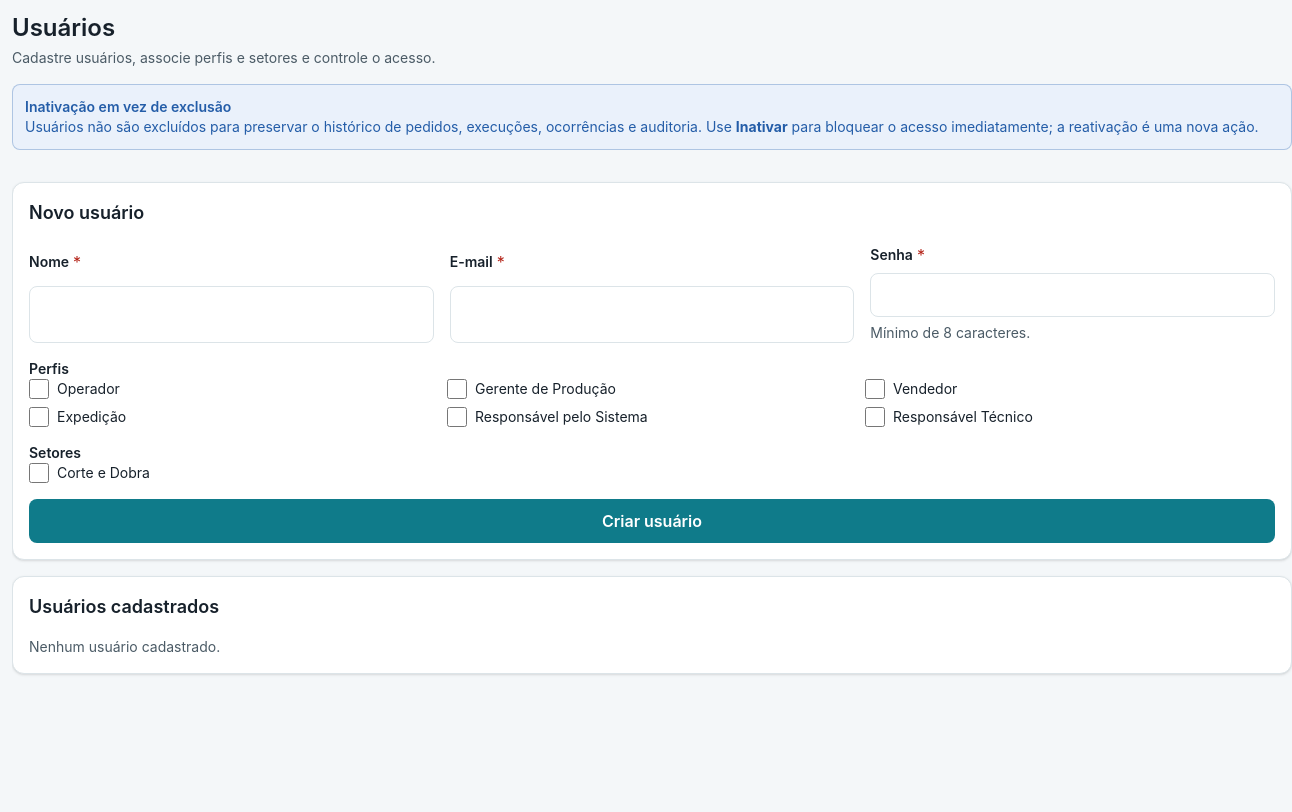
it: UsuariosPage › trata o conflito de e-mail com mensagem acessível (FEP-08)
Check: the heading "Novo usuário" is shown, box x1=29 y1=199 x2=144 y2=227
Type "Beto" into the field labelled "Nome" at (231, 314), box x1=29 y1=286 x2=434 y2=343
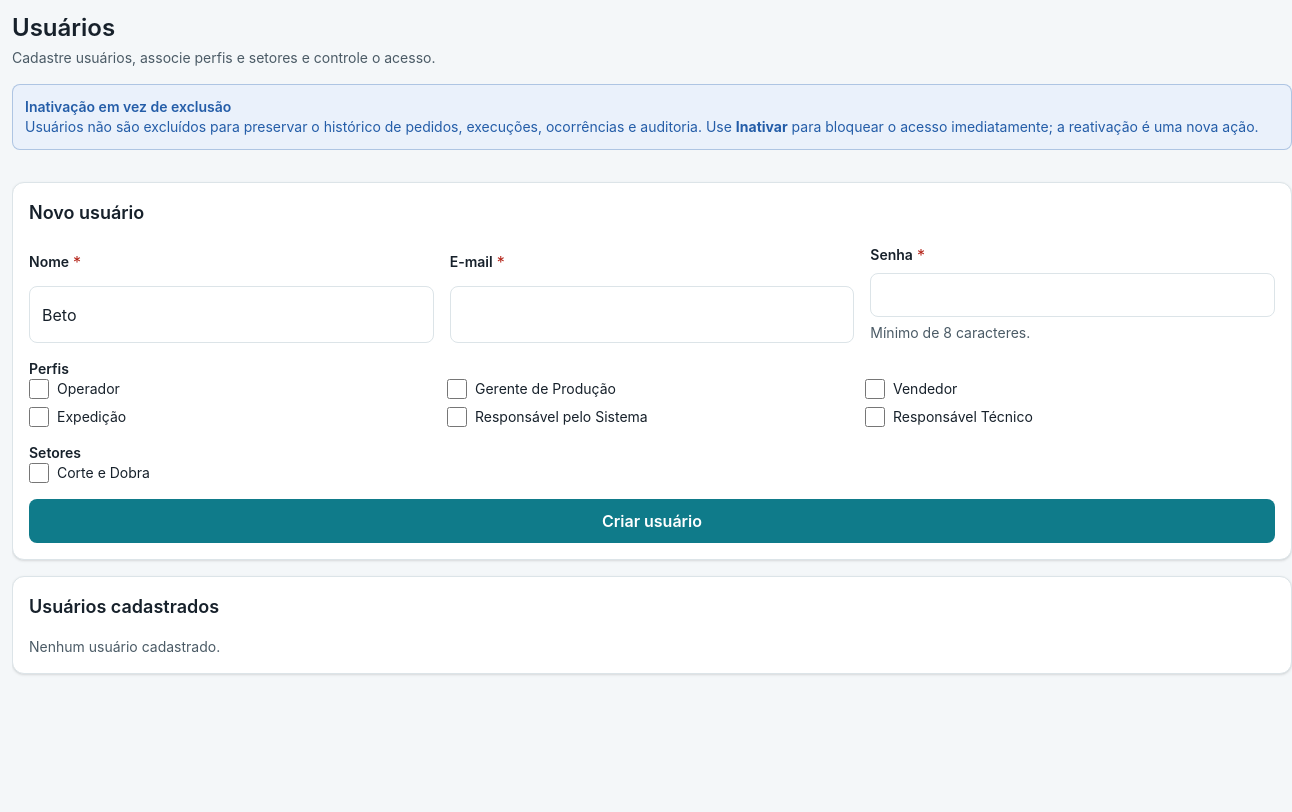
Type "beto@x.com" into the field labelled "E-mail" at (652, 314), box x1=450 y1=286 x2=854 y2=343
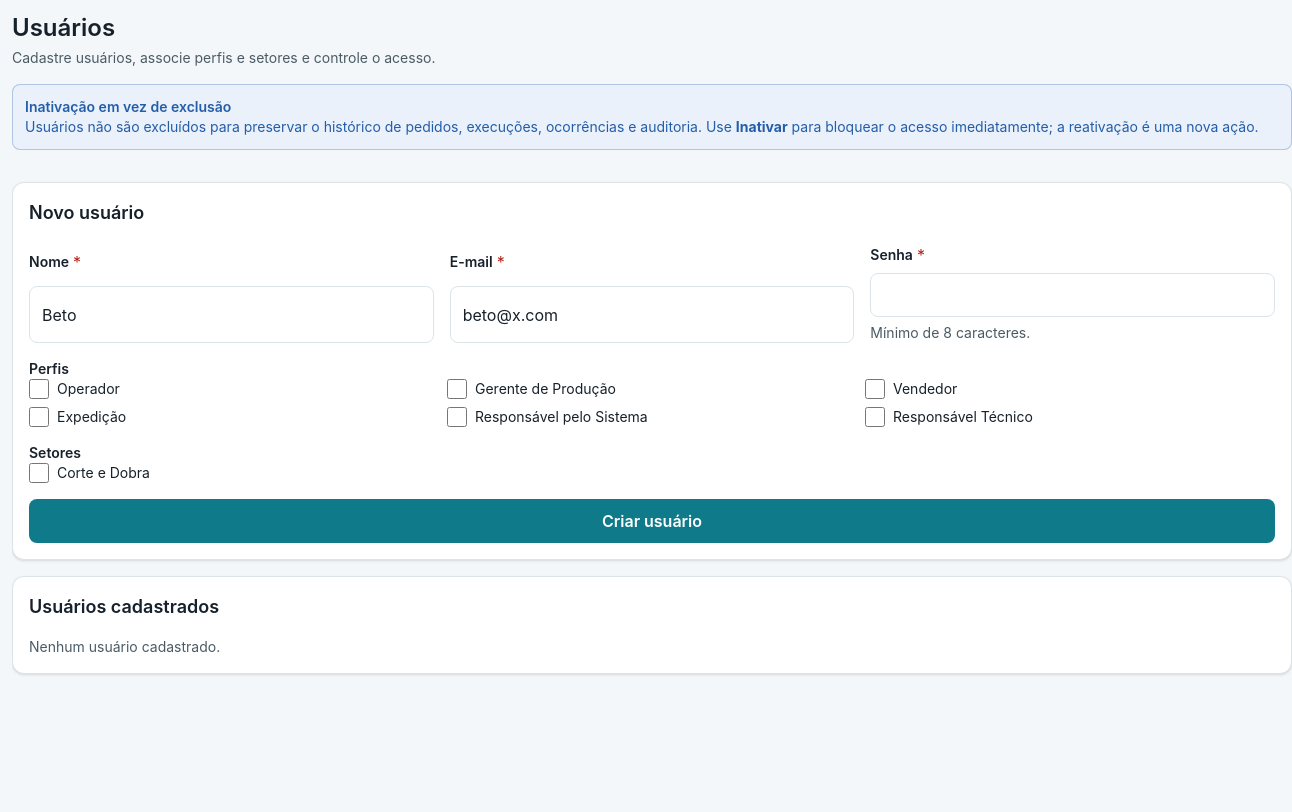
Type "segredo-forte" into the password field labelled "Senha" at (1073, 295), box x1=870 y1=273 x2=1275 y2=317
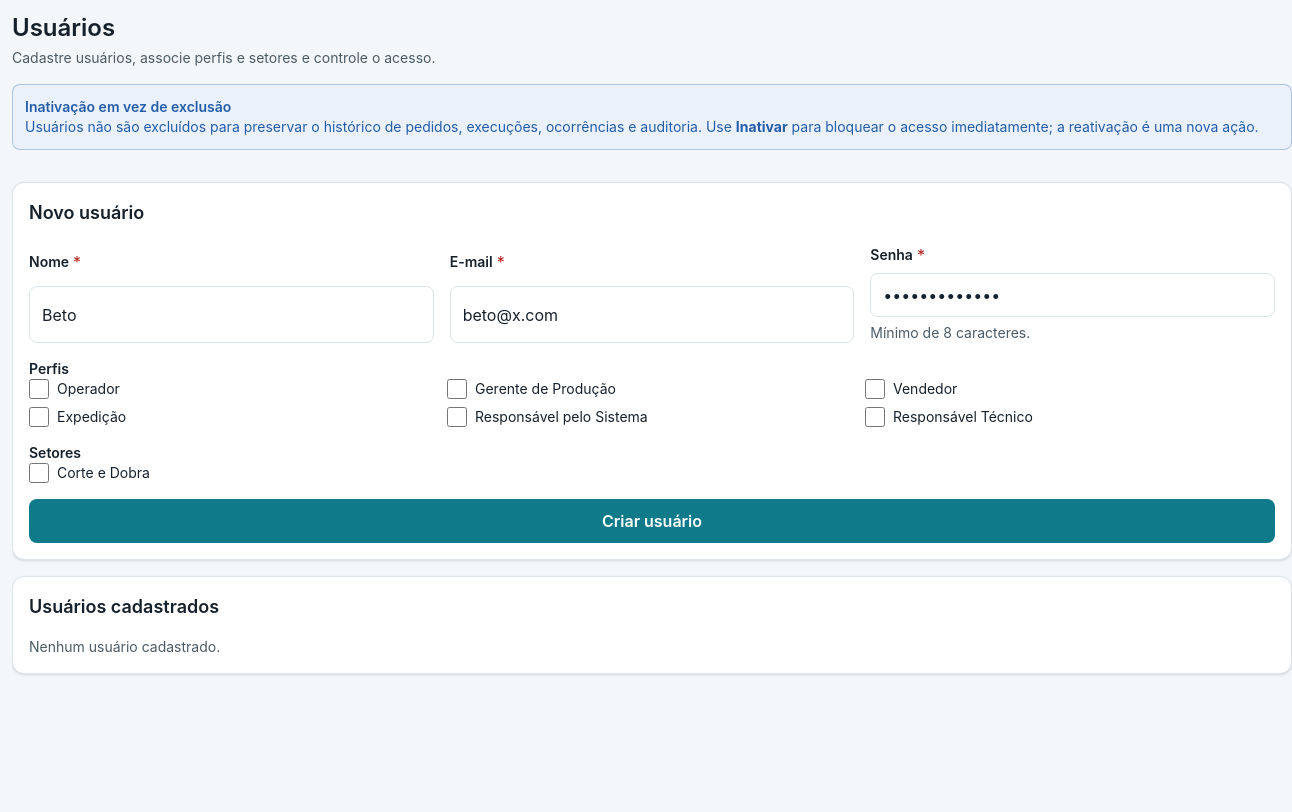
Click the button "Criar usuário" at (652, 521), box x1=29 y1=499 x2=1275 y2=543
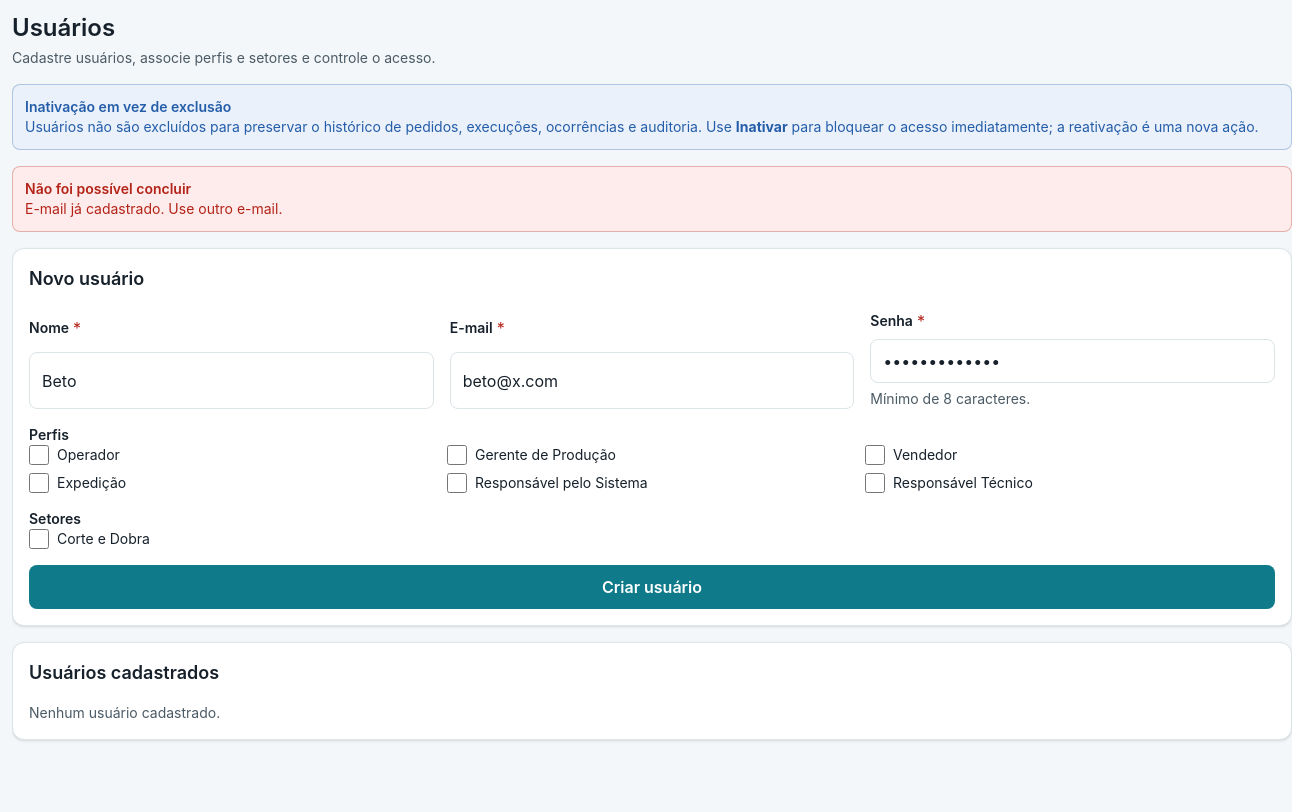
Check: the message "Não foi possível concluir E-mail já cadastrado. Use outro e-mail." is shown, box x1=12 y1=166 x2=1291 y2=232
